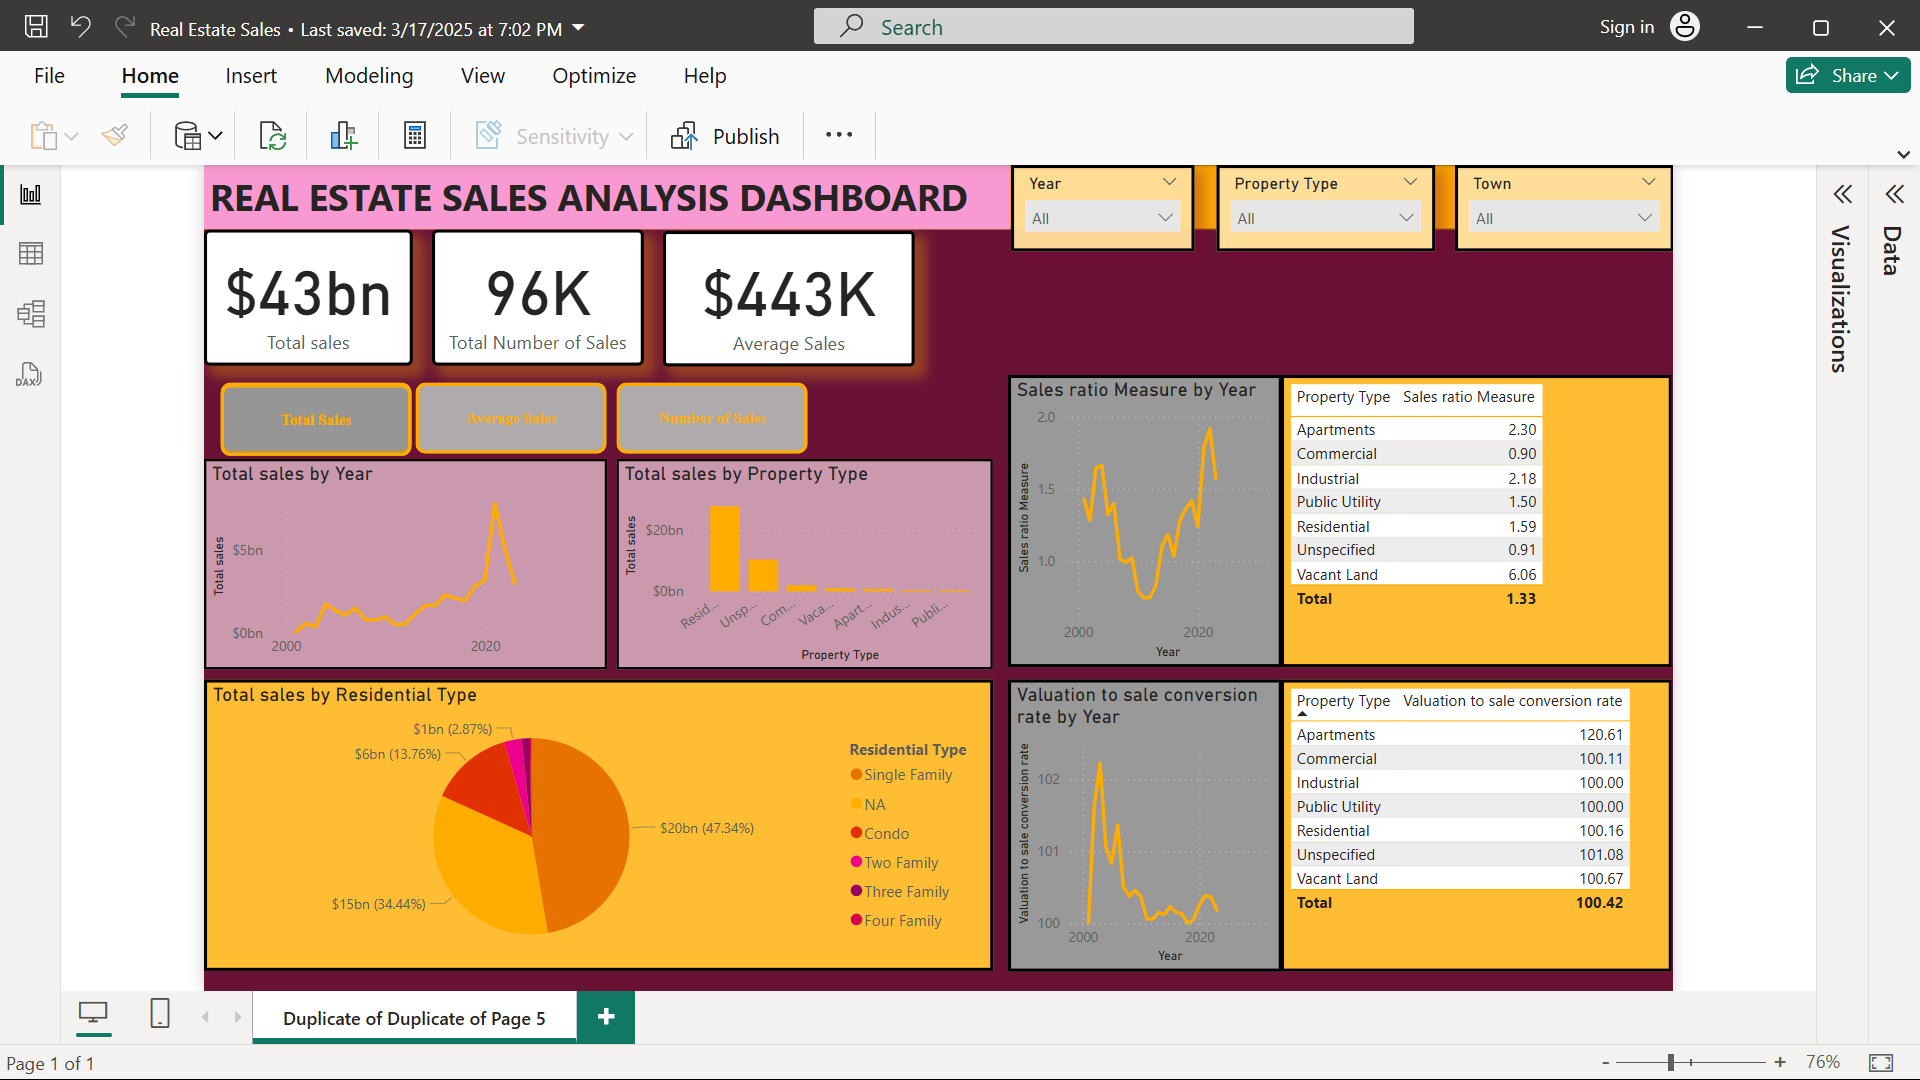

The page's visual inventory and layout, read from the dashboard file:
{"tool":"powerbi","page":{"name":"Duplicate of Duplicate of Page 5","canvas":[1280,720],"ordinal":0},"visuals":[{"type":"shape","box":[0,0,1279.5,56],"z":0},{"type":"card","fields":{"Values":["Real_Estate_Sales_2001-2022_GL.Total sales"]},"box":[0,56.2,181.7,119],"z":1000},{"type":"card","fields":{"Values":["Real_Estate_Sales_2001-2022_GL.Total Number of Sales"]},"box":[198.7,56.2,184.4,119],"z":4000},{"type":"card","fields":{"Values":["Real_Estate_Sales_2001-2022_GL.Average Sales"]},"box":[400.1,57.5,219.7,117.7],"z":5000},{"type":"lineChart","fields":{"Y":["Real_Estate_Sales_2001-2022_GL.Valuation to sale conversion rate"],"Category":["CALENDAR.Date Hierachy.Year"]},"box":[700.4,448.7,238.7,254.5],"z":6000},{"type":"barChart","fields":{"Category":["Real_Estate_Sales_2001-2022_GL.Property Type"],"Y":["Real_Estate_Sales_2001-2022_GL.Valuation to sale conversion rate"]},"box":[939.1,448.7,340.8,254.5],"z":7000},{"type":"slicer","fields":{"Values":["CALENDAR.Year"]},"box":[702.9,0,159.8,75.1],"z":8000},{"type":"slicer","fields":{"Values":["Real_Estate_Sales_2001-2022_GL.Property Type"]},"box":[882,0,190.7,75.1],"z":9000},{"type":"slicer","fields":{"Values":["Real_Estate_Sales_2001-2022_GL.Town"]},"box":[1090,0,190.7,75.1],"z":10000},{"type":"ribbonChart","fields":{"Y":["Real_Estate_Sales_2001-2022_GL.Total Number of Sales"],"Category":["CALENDAR.Date Hierachy.Year"],"Series":["Real_Estate_Sales_2001-2022_GL.Property Type"]},"box":[0,448.7,687.8,254],"z":15000},{"type":"clusteredColumnChart","fields":{"Y":["Real_Estate_Sales_2001-2022_GL.Total Number of Sales"],"Category":["Real_Estate_Sales_2001-2022_GL.Residential Type"]},"box":[0,254,687.8,183.1],"z":16000},{"type":"actionButton","title":"Inact Number of Sales","box":[359,190,166.6,62.1],"z":17000},{"type":"actionButton","title":"Inac Avg sales","box":[184,190,166.6,62.1],"z":18000},{"type":"actionButton","title":"Inact Total Sales","box":[14,190,166.6,62.1],"z":19000},{"type":"actionButton","title":"Act Num of Sales","box":[359.6,191,166.6,63],"z":20000},{"type":"textbox","box":[0,0,702.6,56],"z":23000},{"type":"lineChart","fields":{"Y":["Real_Estate_Sales_2001-2022_GL.Sales ratio Measure"],"Category":["CALENDAR.Date Hierachy.Year"]},"box":[700.4,182.6,238.7,254.5],"z":24000},{"type":"barChart","fields":{"Category":["Real_Estate_Sales_2001-2022_GL.Property Type"],"Y":["Real_Estate_Sales_2001-2022_GL.Sales ratio Measure"]},"box":[939.1,182.6,340.8,254.5],"z":25000}]}

Visuals, with their boxes on the page's 1280x720 design canvas (x1, y1, x2, y2). These are canvas units, not pixel positions in the 1920x1080 screenshot, which may show the page scaled, cropped or inside an application window:
shape: {"left": 0, "top": 0, "right": 1280, "bottom": 56}
card - Real_Estate_Sales_2001-2022_GL.Total sales: {"left": 0, "top": 56, "right": 182, "bottom": 175}
card - Real_Estate_Sales_2001-2022_GL.Total Number of Sales: {"left": 199, "top": 56, "right": 383, "bottom": 175}
card - Real_Estate_Sales_2001-2022_GL.Average Sales: {"left": 400, "top": 58, "right": 620, "bottom": 175}
lineChart - Real_Estate_Sales_2001-2022_GL.Valuation to sale conversion rate x CALENDAR.Date Hierachy.Year: {"left": 700, "top": 449, "right": 939, "bottom": 703}
barChart - Real_Estate_Sales_2001-2022_GL.Property Type x Real_Estate_Sales_2001-2022_GL.Valuation to sale conversion rate: {"left": 939, "top": 449, "right": 1280, "bottom": 703}
slicer - CALENDAR.Year: {"left": 703, "top": 0, "right": 863, "bottom": 75}
slicer - Real_Estate_Sales_2001-2022_GL.Property Type: {"left": 882, "top": 0, "right": 1073, "bottom": 75}
slicer - Real_Estate_Sales_2001-2022_GL.Town: {"left": 1090, "top": 0, "right": 1281, "bottom": 75}
ribbonChart - Real_Estate_Sales_2001-2022_GL.Total Number of Sales x CALENDAR.Date Hierachy.Year: {"left": 0, "top": 449, "right": 688, "bottom": 703}
clusteredColumnChart - Real_Estate_Sales_2001-2022_GL.Total Number of Sales x Real_Estate_Sales_2001-2022_GL.Residential Type: {"left": 0, "top": 254, "right": 688, "bottom": 437}
"Inact Number of Sales" actionButton: {"left": 359, "top": 190, "right": 526, "bottom": 252}
"Inac Avg sales" actionButton: {"left": 184, "top": 190, "right": 351, "bottom": 252}
"Inact Total Sales" actionButton: {"left": 14, "top": 190, "right": 181, "bottom": 252}
"Act Num of Sales" actionButton: {"left": 360, "top": 191, "right": 526, "bottom": 254}
textbox: {"left": 0, "top": 0, "right": 703, "bottom": 56}
lineChart - Real_Estate_Sales_2001-2022_GL.Sales ratio Measure x CALENDAR.Date Hierachy.Year: {"left": 700, "top": 183, "right": 939, "bottom": 437}
barChart - Real_Estate_Sales_2001-2022_GL.Property Type x Real_Estate_Sales_2001-2022_GL.Sales ratio Measure: {"left": 939, "top": 183, "right": 1280, "bottom": 437}
